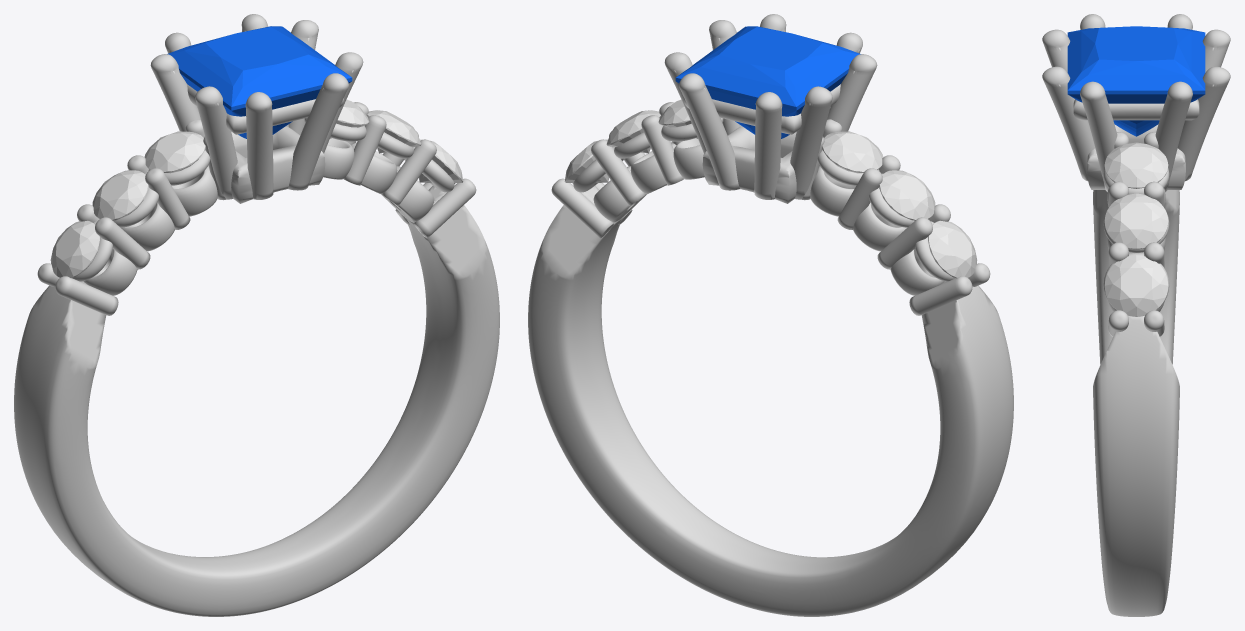
File: bluesapphire-princess-platinum-8prong-straighttaperedband-7stone.glb
The picture shows the model from 3 angles, left to right: view 1: azimuth 30°, elevation 25°; view 2: azimuth 150°, elevation 25°; view 3: azimuth 270°, elevation 25°; orthographic projection.
Parts seen in each view (by area): view 1: metal, stone, side, side.001, side.002, side.004, side.005; view 2: metal, stone, side, side.001, side.002, side.004, side.005; view 3: metal, stone, side.005, side.004, side.003.
Part boxes in pixels (x1,y1,x2,y2): metal: [14, 14, 499, 616]; stone: [167, 26, 352, 138]; side: [50, 220, 99, 278]; side.001: [92, 170, 148, 220]; side.002: [144, 131, 205, 173]; side.004: [367, 110, 421, 153]; side.005: [419, 139, 463, 182]; metal: [528, 14, 1013, 616]; stone: [675, 26, 860, 138]; side: [928, 220, 977, 278]; side.001: [879, 170, 935, 220]; side.002: [822, 131, 883, 173]; side.004: [606, 110, 660, 153]; side.005: [564, 139, 608, 182]; metal: [1042, 14, 1230, 616]; stone: [1067, 26, 1205, 136]; side.005: [1104, 255, 1168, 316]; side.004: [1104, 193, 1168, 249]; side.003: [1104, 142, 1168, 188].
Bounding box in the file's own units: 20.51 × 23.86 × 7.42.
